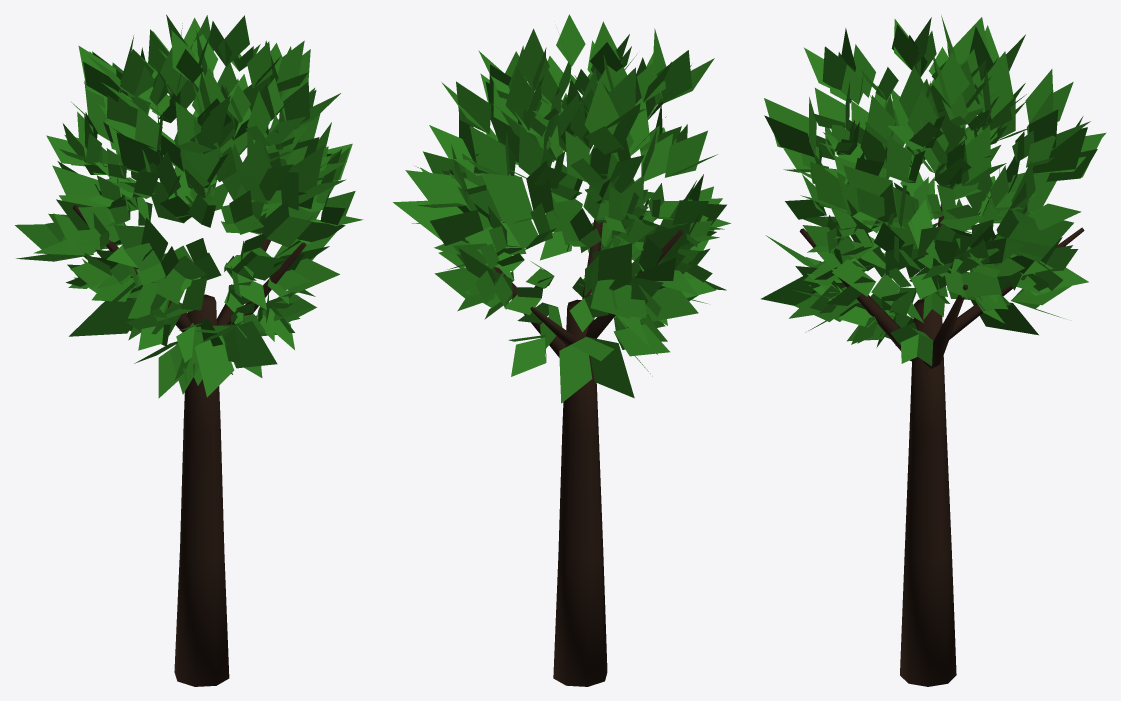
The model's file is Tree_08_A_LOD1.obj.
3 views of the same model, side by side, from view 1: azimuth 30°, elevation 25°; view 2: azimuth 150°, elevation 25°; view 3: azimuth 270°, elevation 25° (orthographic).
Parts seen in each view (by area): view 1: Leaves, Trunk; view 2: Leaves, Trunk; view 3: Leaves, Trunk.
Boxes of the visible parts, box(x1,y1,x2,y2) form: Leaves: box(15, 14, 363, 398); Trunk: box(73, 205, 306, 686); Leaves: box(393, 14, 730, 403); Trunk: box(494, 219, 683, 686); Leaves: box(761, 15, 1106, 366); Trunk: box(799, 204, 1084, 686).
Bounding box in the file's own units: 4.62 × 9.2 × 4.46.
